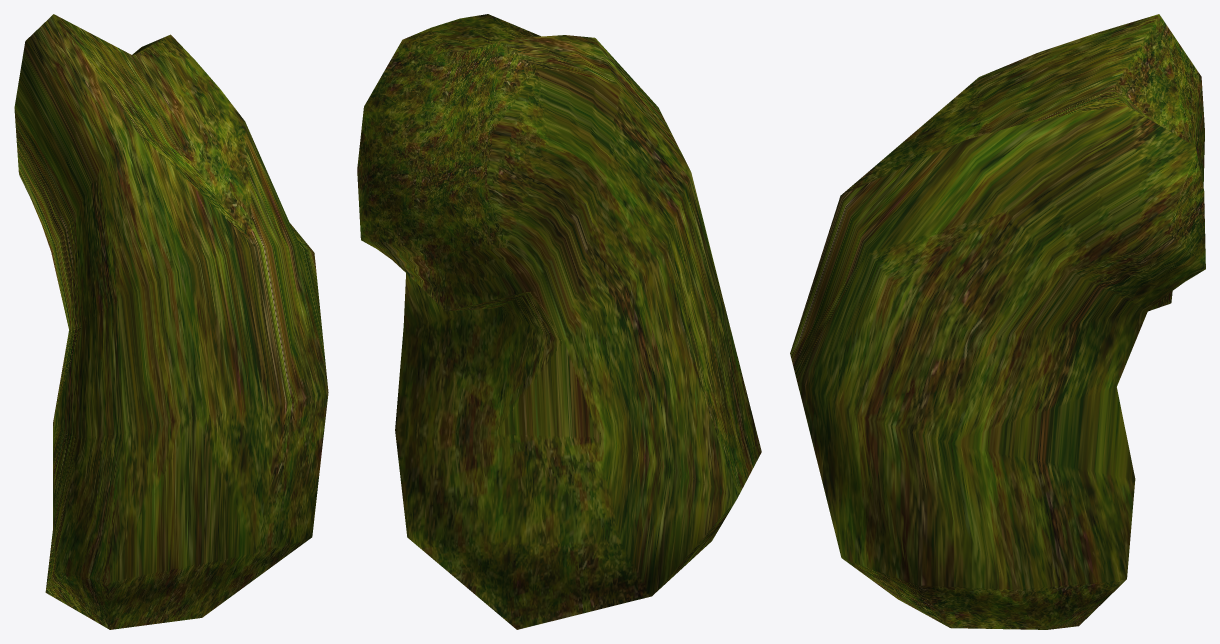
File: LVL_ROAST_MUTTON_ROCK_TOM_SCRATCH_HIGH.fbx
3 renders of one model, left to right at view 1: azimuth 30°, elevation 25°; view 2: azimuth 150°, elevation 25°; view 3: azimuth 270°, elevation 25°, orthographic. The views are drawn at different scales.
Parts seen in each view (by area): view 1: LVL_ROAST_MUTTON_ROCK_TOM_SCRATCH_HIGH; view 2: LVL_ROAST_MUTTON_ROCK_TOM_SCRATCH_HIGH; view 3: LVL_ROAST_MUTTON_ROCK_TOM_SCRATCH_HIGH.
Part boxes in pixels (<box>): LVL_ROAST_MUTTON_ROCK_TOM_SCRATCH_HIGH: <box>14,14,328,629</box>; LVL_ROAST_MUTTON_ROCK_TOM_SCRATCH_HIGH: <box>357,14,761,629</box>; LVL_ROAST_MUTTON_ROCK_TOM_SCRATCH_HIGH: <box>790,14,1205,629</box>.
Size of the model in its own units: 16376 by 34438 by 21646.
Materials: 1 (1 with a texture image).
